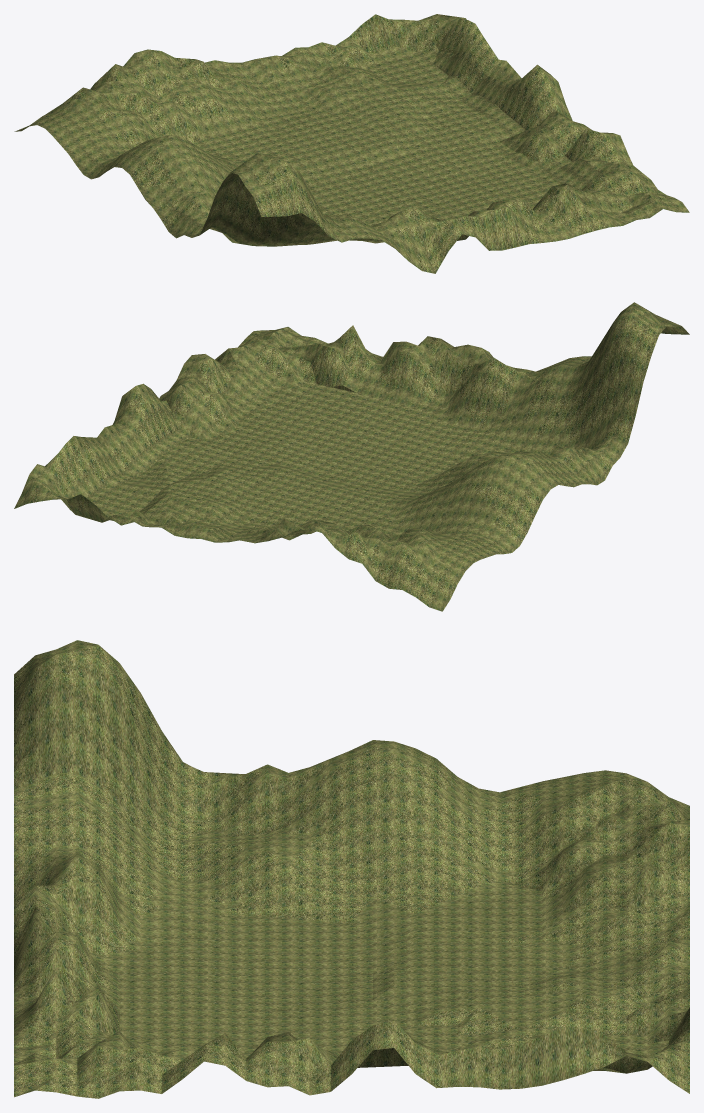
3 views of the same model, one above another, from view 1: azimuth 30°, elevation 25°; view 2: azimuth 150°, elevation 25°; view 3: azimuth 270°, elevation 25° (orthographic). The views are drawn at different scales.
Parts seen in each view (by area): view 1: Mesh; view 2: Mesh; view 3: Mesh.
Part boxes in pixels (x1=…): Mesh: x1=14, y1=14, x2=689, y2=273; Mesh: x1=14, y1=302, x2=689, y2=611; Mesh: x1=14, y1=640, x2=689, y2=1098.
Size of the model in its own units: 250 by 77.6 by 250.
1 material, 1 textured.
